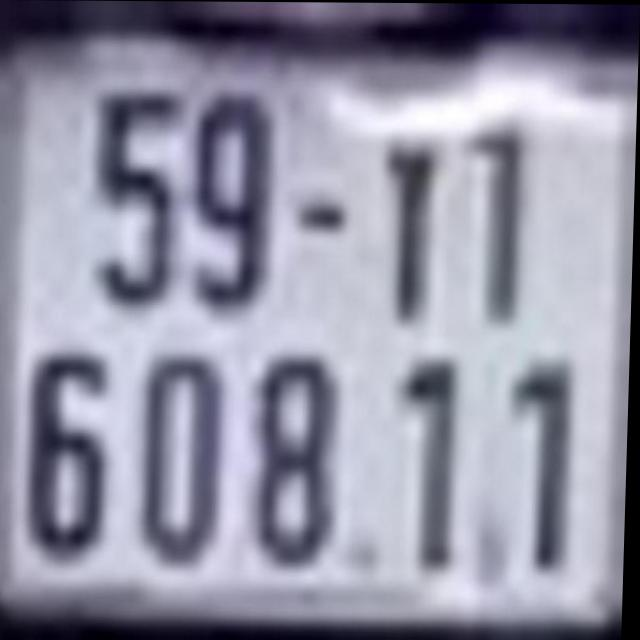0: (133, 339, 235, 580)
1: (507, 348, 586, 565), (400, 355, 476, 572), (464, 111, 531, 320)
5: (93, 91, 182, 302)
6: (16, 350, 118, 558)
8: (252, 347, 352, 586)
9: (185, 92, 280, 308)
Y: (359, 91, 455, 332)
